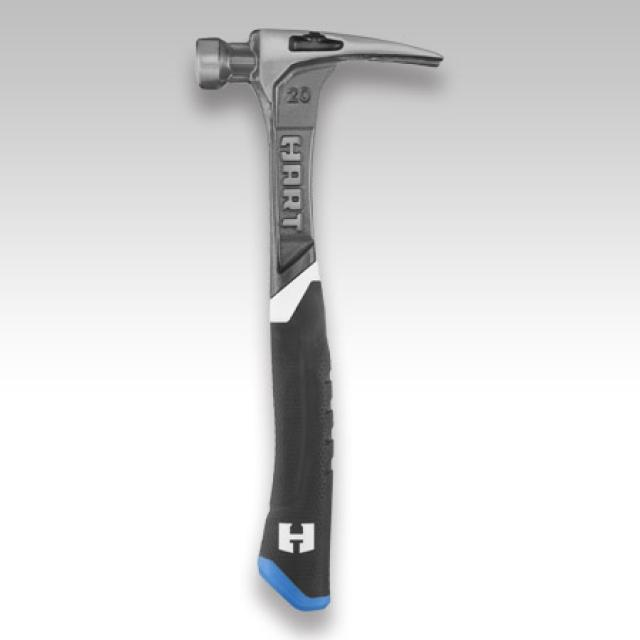Screwdriver: (196, 29, 442, 611)
